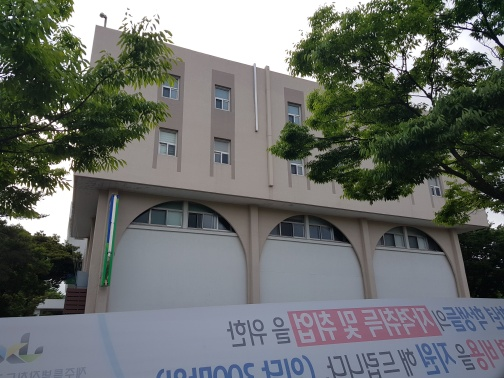Main Building of University: (64, 11, 496, 295), (128, 192, 446, 254), (148, 43, 247, 181)
